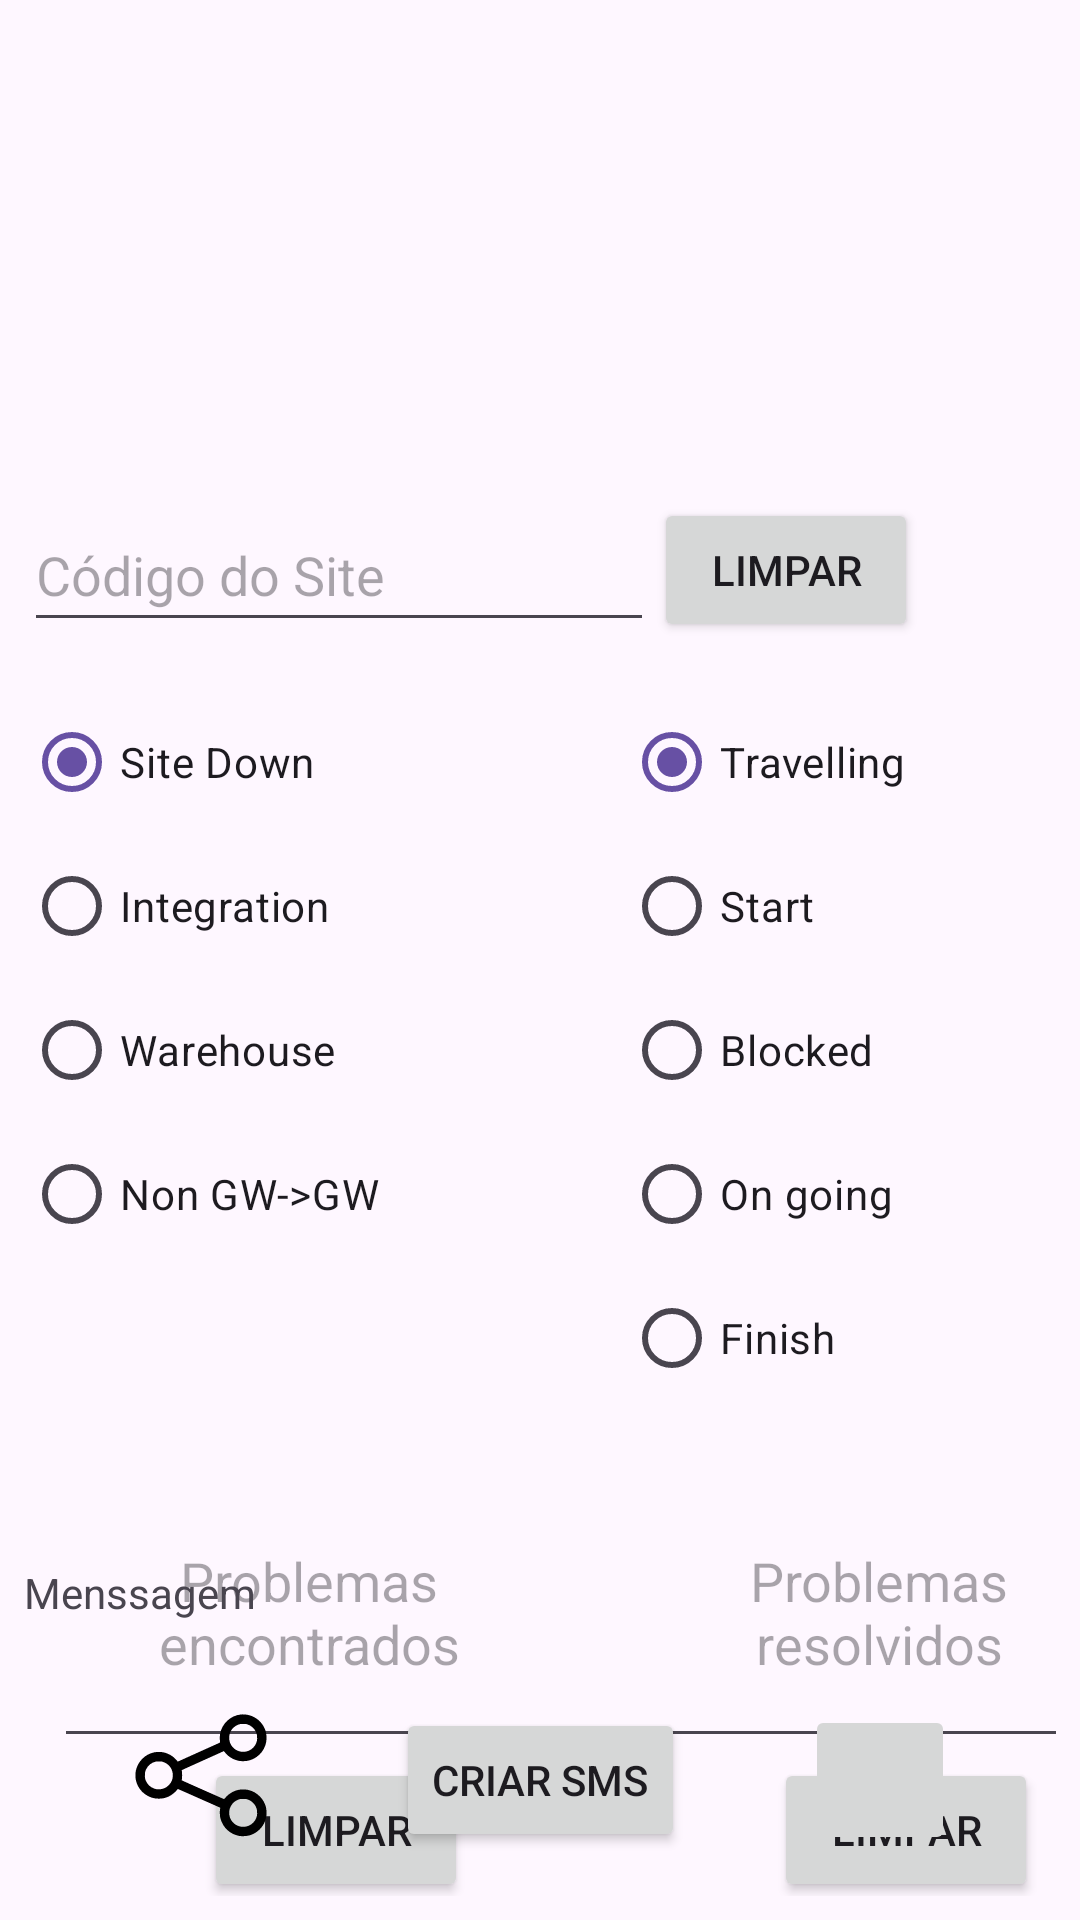

Icons on this 1080×1920 Android screen, each with its box as detection(x1, y1, x2, y2):
share: detection(126, 1714, 276, 1855)
